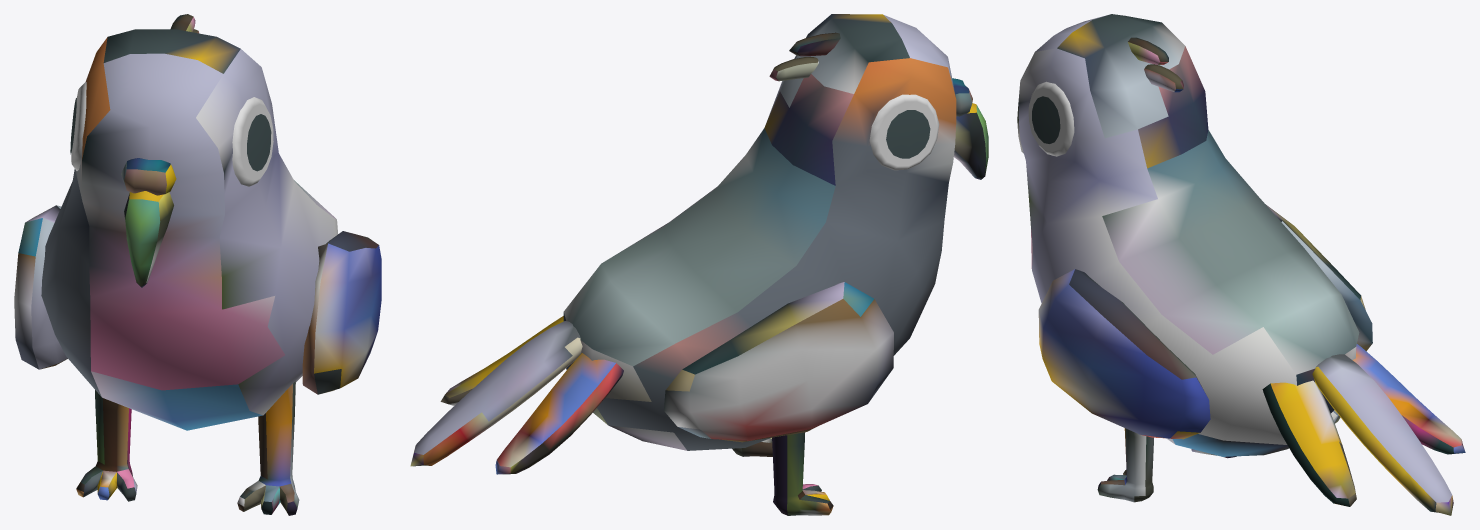
The model's file is Kakapo.glb.
3 views of the same model, side by side, from view 1: azimuth 30°, elevation 25°; view 2: azimuth 150°, elevation 25°; view 3: azimuth 270°, elevation 25° (orthographic). The views are drawn at different scales.
Visible parts, largest first — view 1: 82; view 2: 82; view 3: 82.
Boxes of the visible parts, x1,y1,x2,y2 form: 82: [14, 14, 381, 515]; 82: [410, 14, 988, 515]; 82: [1017, 14, 1465, 515].
Size of the model in its own units: 0.7193 by 0.7854 by 0.7619.
